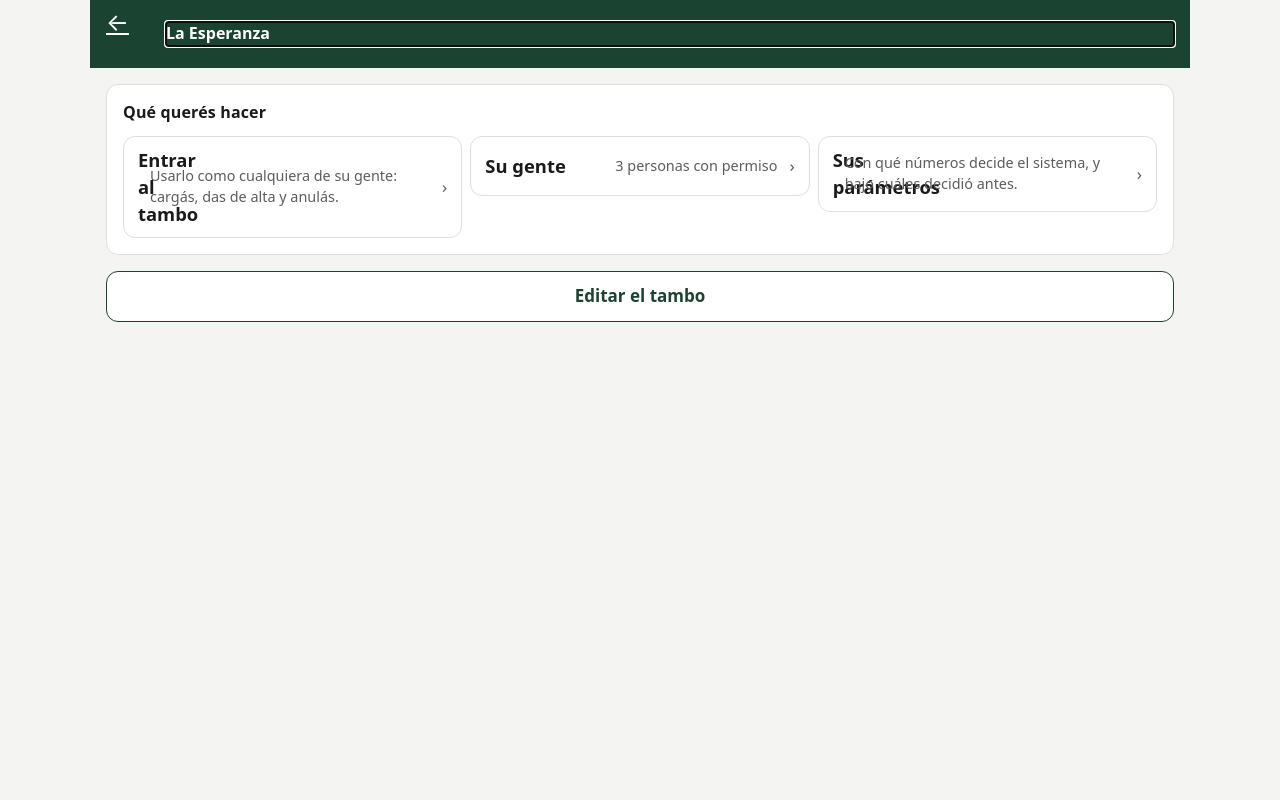
entrar al tambo y volver › entra y es la app de siempre, con la vuelta al panel adentro de Mi cuenta
Click the button named "Entrar al tambo" at [293, 187], box [123,136,462,238]
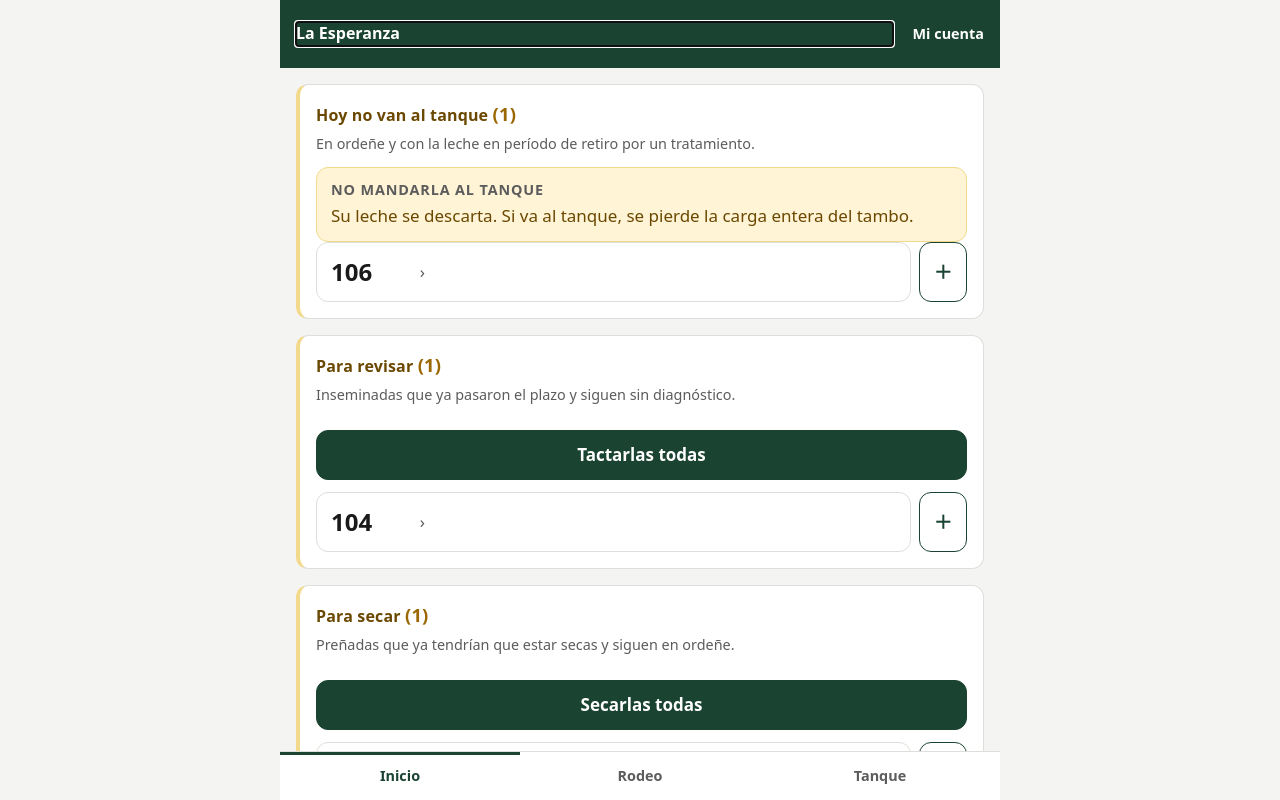
expect the heading "La Esperanza" is shown: met, box [296,22,400,44]
Click the link "Mi cuenta" at [948, 33], box [912,24,984,43]
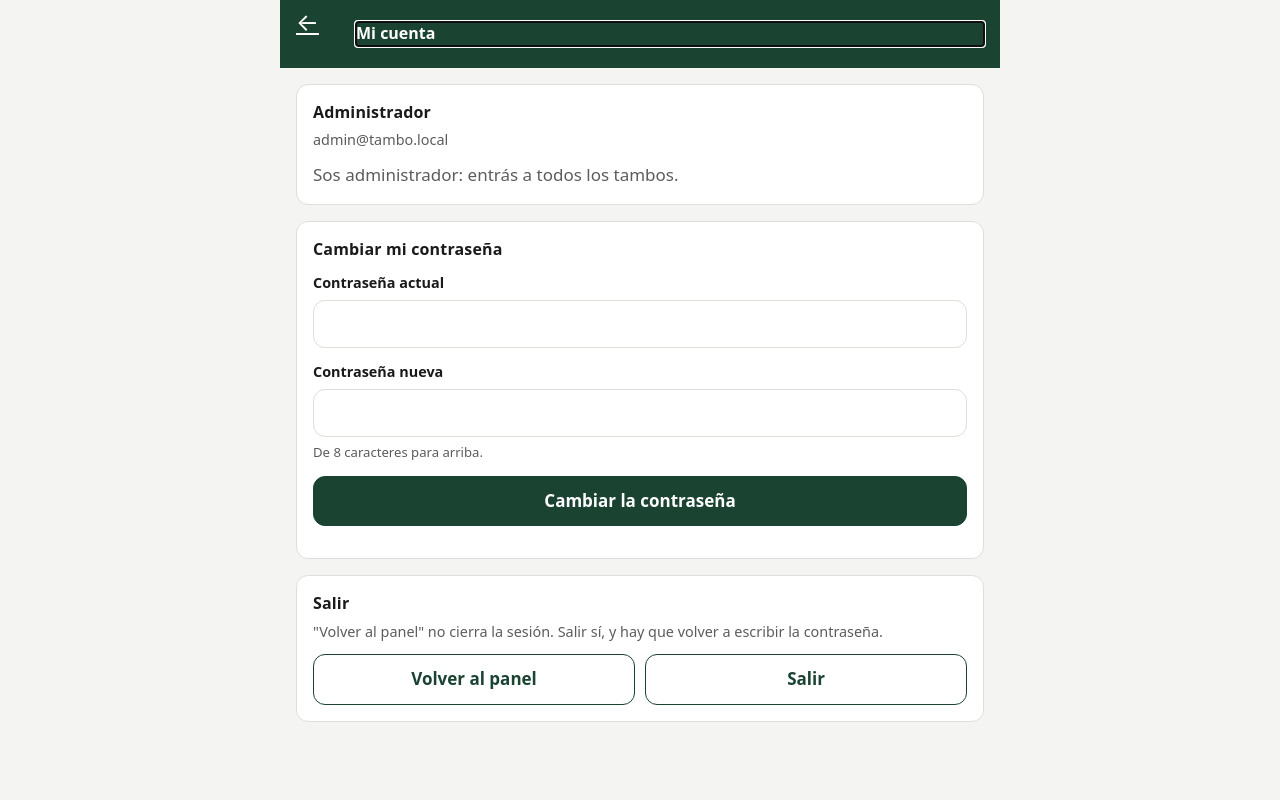
expect the button "Volver al panel" is shown: met, box [313,654,635,705]
